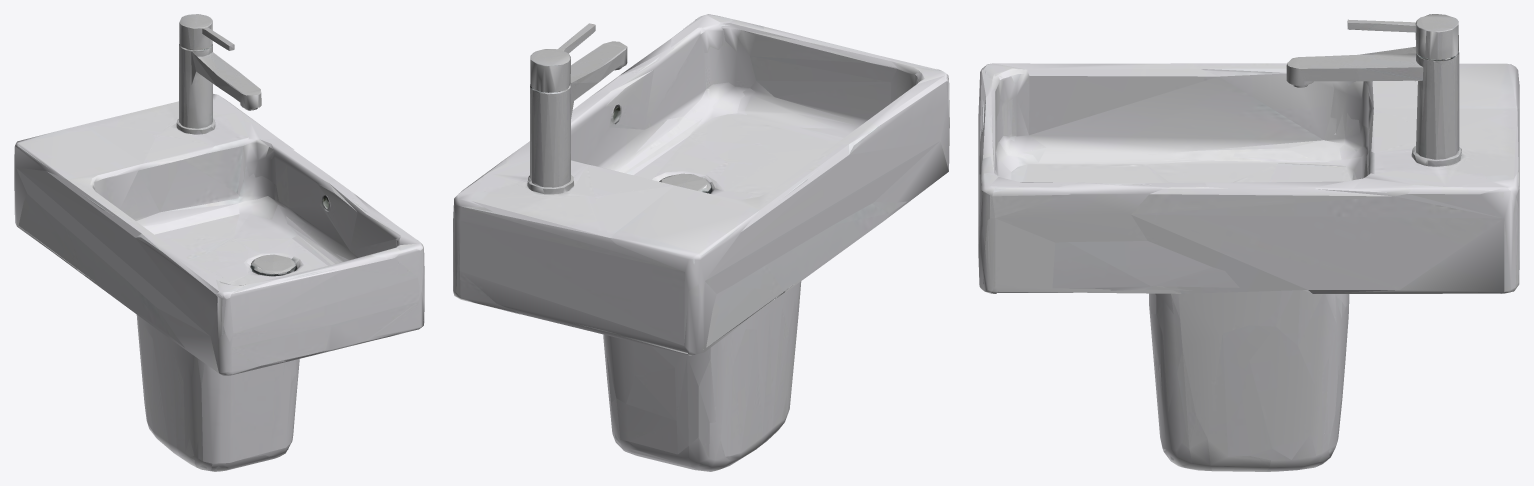
Rendered from sink.glb.
3 renders of one model, left to right at view 1: azimuth 30°, elevation 25°; view 2: azimuth 150°, elevation 25°; view 3: azimuth 270°, elevation 25°, orthographic. The views are drawn at different scales.
Visible parts, largest first — view 1: output_unwrapped; view 2: output_unwrapped; view 3: output_unwrapped.
Boxes of the visible parts, x1,y1,x2,y2 form: output_unwrapped: (14,14,424,471); output_unwrapped: (453,14,949,471); output_unwrapped: (978,14,1519,471).
Bounding box in the file's own units: 1.07 × 1.79 × 1.9.
Materials: 1 (1 with a texture image).
